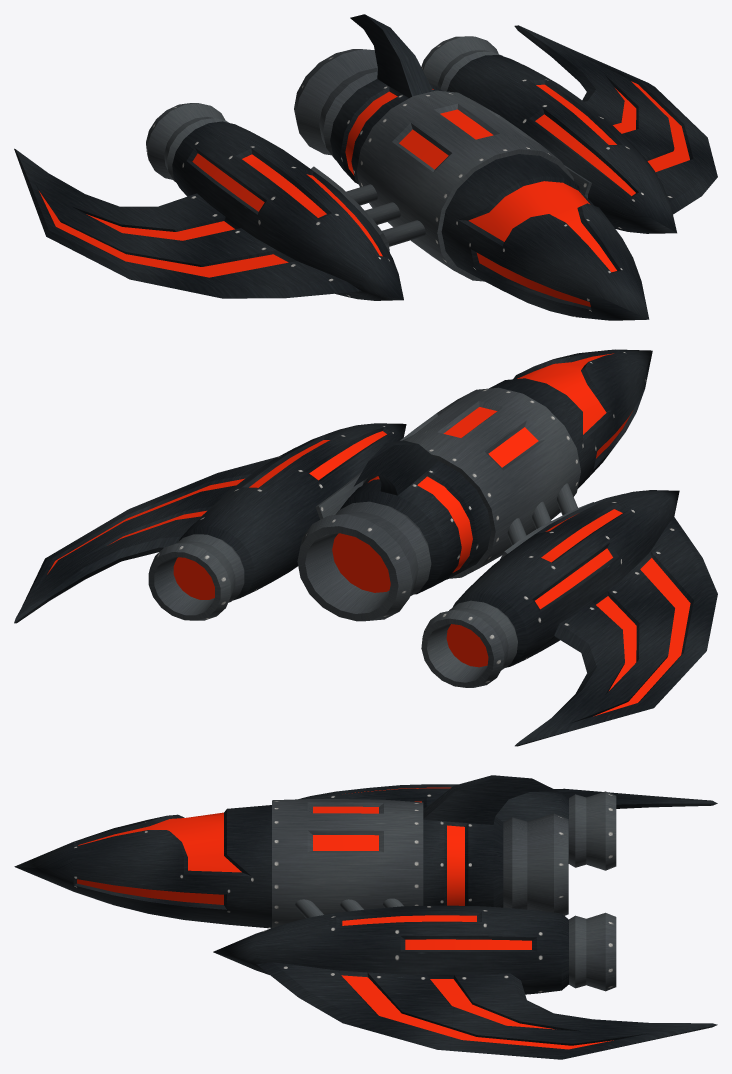
Rendered from Bloaty.fbx.
The picture shows the model from 3 angles, top to bottom: view 1: azimuth 30°, elevation 25°; view 2: azimuth 150°, elevation 25°; view 3: azimuth 270°, elevation 25°; orthographic projection. The views are drawn at different scales.
Parts seen in each view (by area): view 1: Boaty_2, rightBooster, leftBooster1, polySurface12, polySurface14; view 2: Boaty_2, rightBooster, leftBooster1; view 3: Boaty_2, leftBooster1, rightBooster.
Boxes of the visible parts, x1,y1,x2,y2 form: Boaty_2: (294, 14, 649, 320); rightBooster: (14, 103, 403, 300); leftBooster1: (421, 25, 717, 233); polySurface12: (382, 220, 425, 246); polySurface14: (365, 202, 400, 224); Boaty_2: (297, 349, 652, 621); rightBooster: (421, 490, 717, 746); leftBooster1: (14, 423, 406, 623); Boaty_2: (14, 775, 568, 928); leftBooster1: (213, 905, 717, 1059); rightBooster: (298, 784, 717, 870).
Size of the model in its own units: 42.77 by 11.46 by 47.08.
